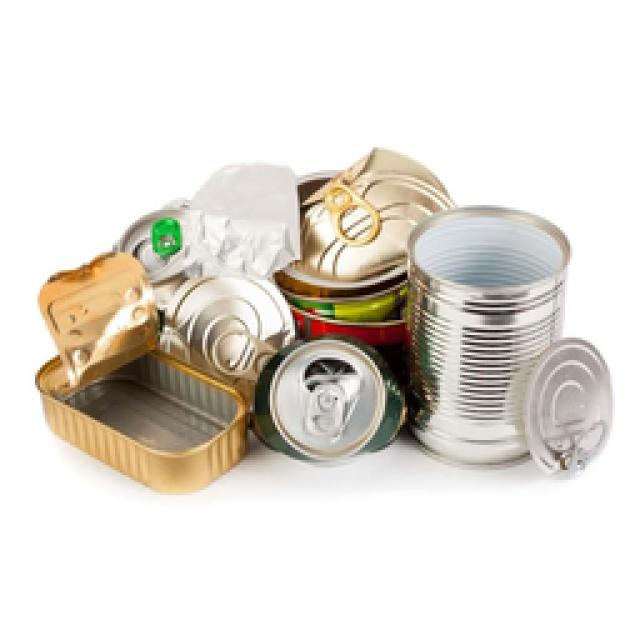alumunium: (35, 148, 610, 490)
